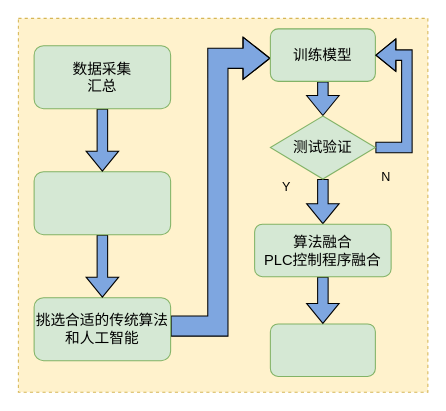
Image size: 446x411. Some labels were removed from this diagram. The centre of each missing label's shape, as x and y in pixels:
数据标注: the point at 102,203
系统部署: the point at 322,349
